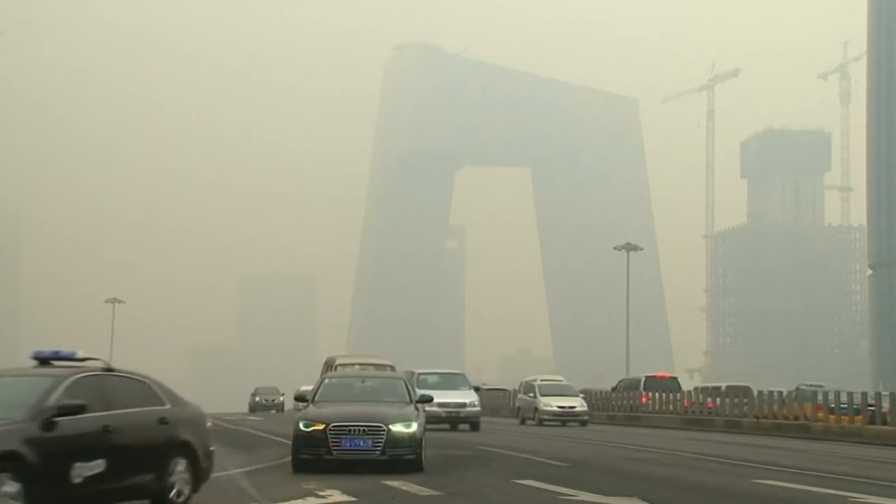car: (1, 347, 220, 504), (289, 369, 436, 472), (770, 381, 892, 439), (316, 352, 404, 428), (390, 367, 485, 433), (514, 378, 589, 429), (611, 371, 686, 418), (517, 373, 580, 425), (685, 382, 757, 423), (249, 385, 286, 415), (292, 383, 326, 411)
